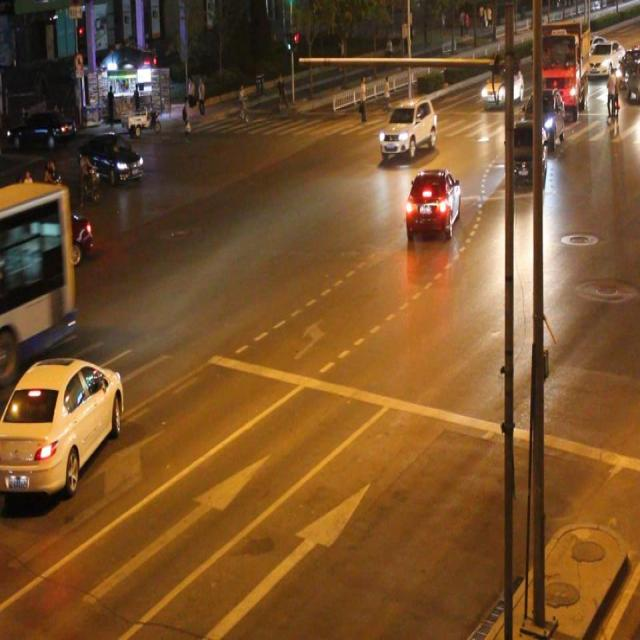car: (0, 358, 124, 492), (404, 165, 461, 239), (28, 208, 93, 271), (377, 95, 435, 156), (503, 120, 547, 188)
van: (1, 179, 76, 369)
